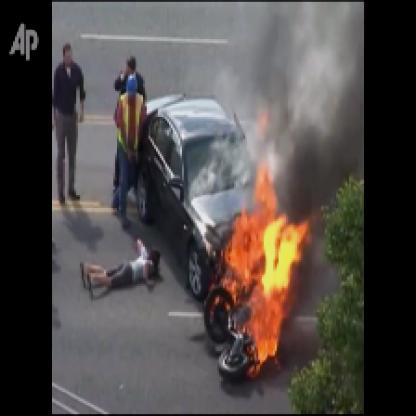Fire: (204, 156, 308, 386)
Smoke: (240, 2, 368, 219)
